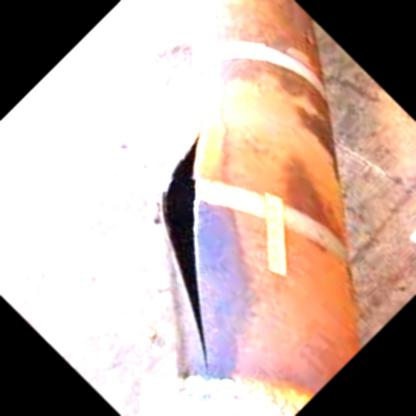burst: (147, 126, 220, 390)
